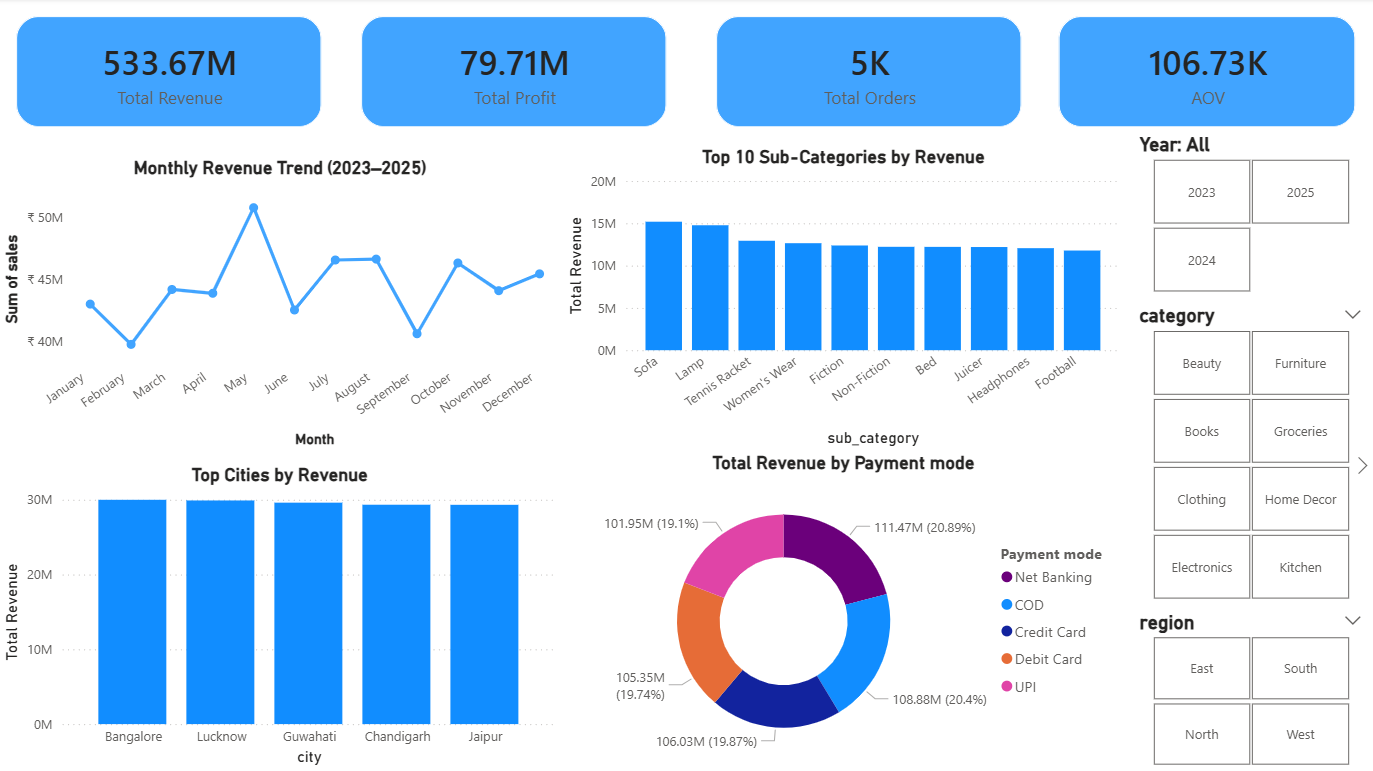

The dashboard page shown, as its layout file describes it:
{"tool":"powerbi","page":{"name":"Page 1","canvas":[1280,720],"ordinal":0},"visuals":[{"type":"cardVisual","fields":{"Data":["sales2024_25.Total Revenue"]},"box":[0,0,318.6,137.1],"z":0},{"type":"cardVisual","fields":{"Data":["sales2024_25.Total Profit"]},"box":[321.4,0,318.6,137.1],"z":1001},{"type":"cardVisual","fields":{"Data":["sales2024_25.Total Orders"]},"box":[651.4,0,318.6,137.1],"z":1002},{"type":"cardVisual","fields":{"Data":["sales2024_25.AOV"]},"box":[970,0,310,137.1],"z":1003},{"type":"lineChart","title":"Monthly Revenue Trend (2023–2025)","fields":{"Y":["Sum(sales2024_25.sales)"],"Category":["sales2024_25.order_date.Variation.Date Hierarchy.Month"]},"box":[0,148.2,524.2,274.4],"z":1004},{"type":"columnChart","title":"Top 10 Sub-Categories by Revenue","fields":{"Y":["sales2024_25.Total Revenue"],"Category":["sales2024_25.sub_category"]},"box":[524.2,137.2,524.2,285.4],"z":1005},{"type":"clusteredColumnChart","title":"Top Cities by Revenue","fields":{"Category":["sales2024_25.city"],"Y":["sales2024_25.Total Revenue"]},"box":[0,434.3,524.3,285.7],"z":1006},{"type":"donutChart","fields":{"Category":["sales2024_25.payment_mode"],"Y":["sales2024_25.Total Revenue"]},"box":[524.2,422.6,524.2,296.4],"z":1007},{"type":"slicer","fields":{"Values":["sales2024_25.order_date.Variation.Date Hierarchy.Year"]},"box":[1048.4,120.8,231.9,159.2],"z":1008},{"type":"slicer","fields":{"Values":["sales2024_25.category"]},"box":[1048.4,279.9,231.9,285.4],"z":1009},{"type":"slicer","fields":{"Values":["sales2024_25.region"]},"box":[1048.4,565.4,231.9,155.1],"z":1010}]}

Visuals, with their boxes in screenshot pixels (x1, y1, x2, y2), scaled from the page's 1280x720 canvas onto the 1373x771 screenshot:
cardVisual - sales2024_25.Total Revenue: detection(0, 0, 342, 147)
cardVisual - sales2024_25.Total Profit: detection(345, 0, 686, 147)
cardVisual - sales2024_25.Total Orders: detection(699, 0, 1040, 147)
cardVisual - sales2024_25.AOV: detection(1040, 0, 1372, 147)
"Monthly Revenue Trend (2023–2025)" lineChart: detection(0, 159, 562, 453)
"Top 10 Sub-Categories by Revenue" columnChart: detection(562, 147, 1125, 453)
"Top Cities by Revenue" clusteredColumnChart: detection(0, 465, 562, 770)
donutChart - sales2024_25.payment_mode x sales2024_25.Total Revenue: detection(562, 453, 1125, 770)
slicer - sales2024_25.order_date.Variation.Date Hierarchy.Year: detection(1125, 129, 1372, 300)
slicer - sales2024_25.category: detection(1125, 300, 1372, 605)
slicer - sales2024_25.region: detection(1125, 605, 1372, 770)
